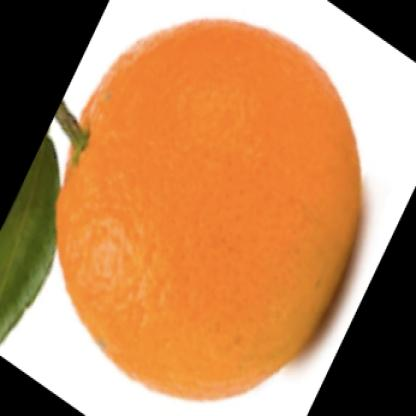fresh: (55, 20, 360, 398)
